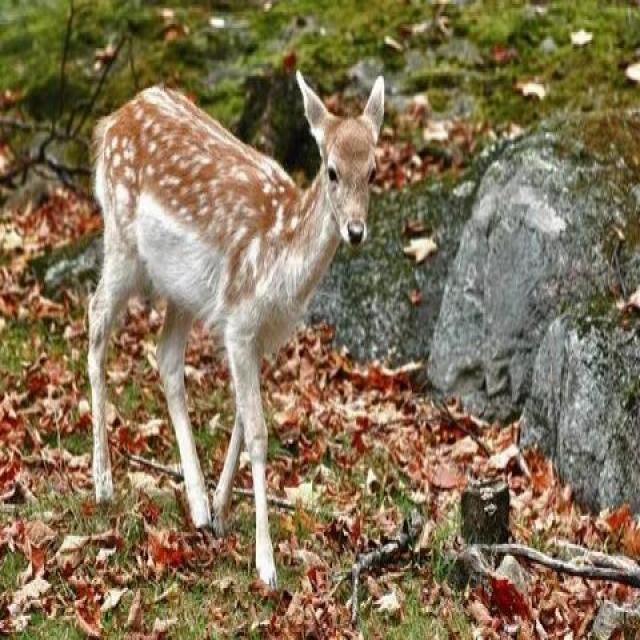deer: (46, 23, 394, 541)
